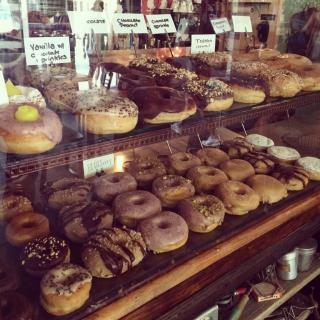Doughnut: (0, 132, 319, 319), (0, 46, 319, 155)
